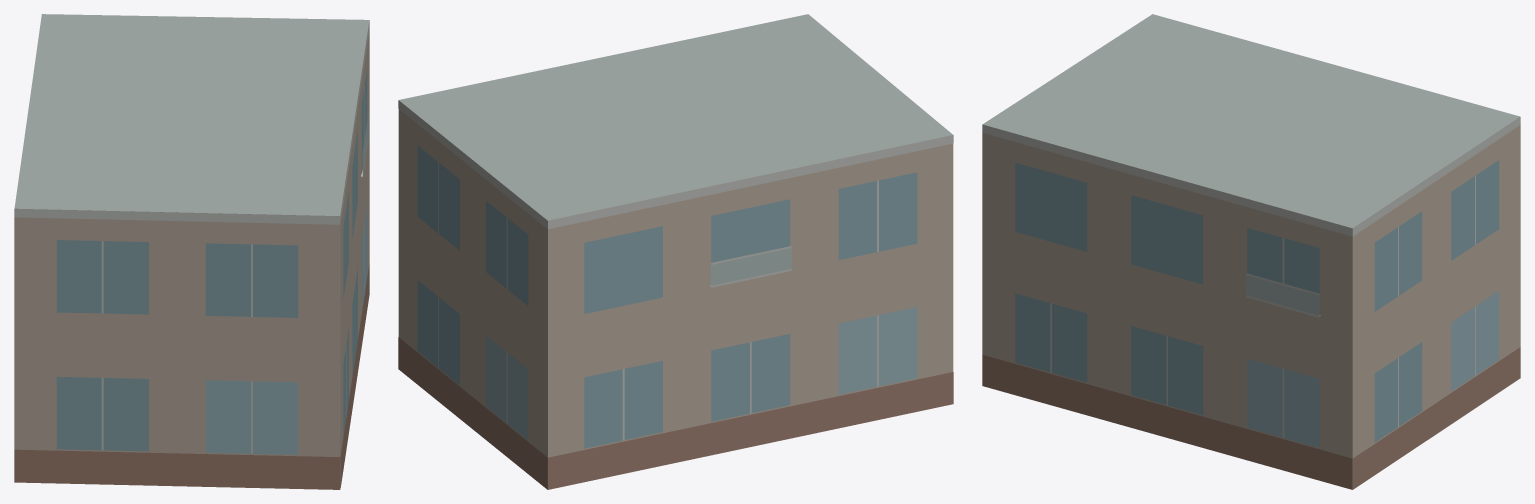
File: survey-upis-32701417.glb
3 views of the same model, side by side, from view 1: azimuth 30°, elevation 25°; view 2: azimuth 150°, elevation 25°; view 3: azimuth 270°, elevation 25° (orthographic). The views are drawn at different scales.
Parts seen in each view (by area): view 1: survey-upis-32701417.tmp; view 2: survey-upis-32701417.tmp; view 3: survey-upis-32701417.tmp.
Part boxes in pixels (x1,y1,x2,y2): survey-upis-32701417.tmp: (14,14,369,489); survey-upis-32701417.tmp: (398,14,953,489); survey-upis-32701417.tmp: (982,14,1520,489).
Bounding box in the file's own units: 13.54 × 7.7 × 14.37.
